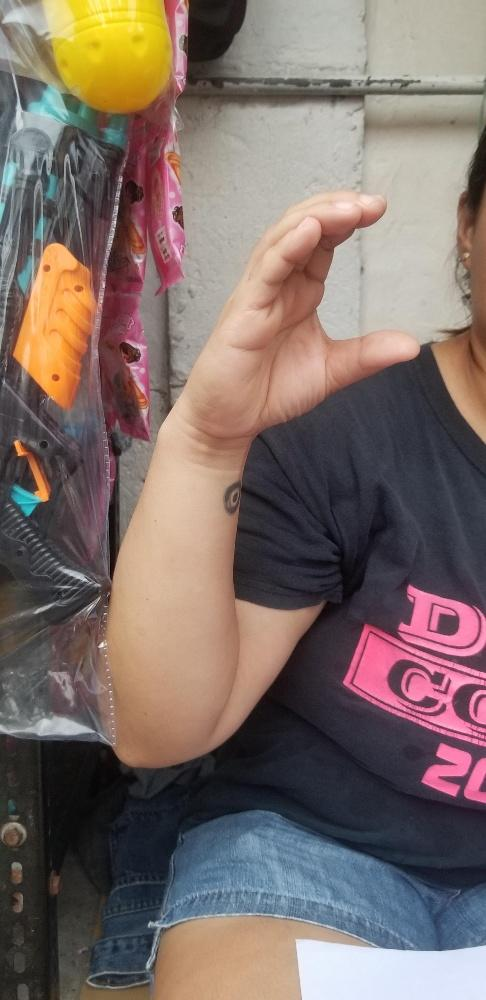c: (198, 187, 419, 429)
